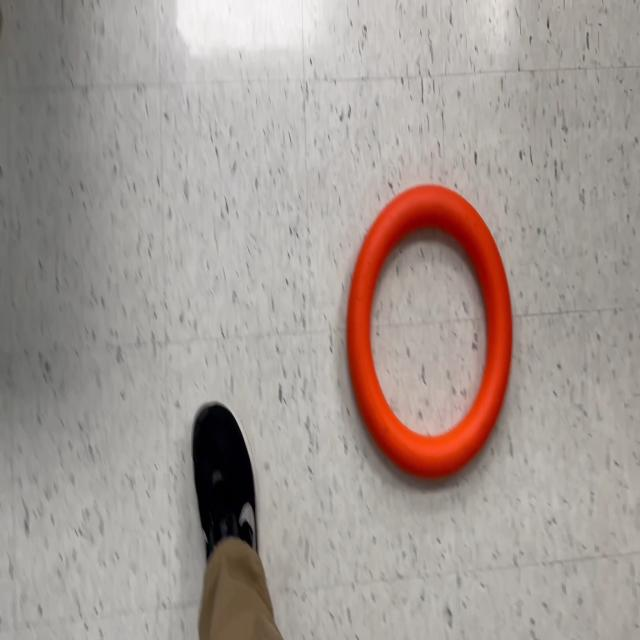note: (345, 182, 515, 484)
